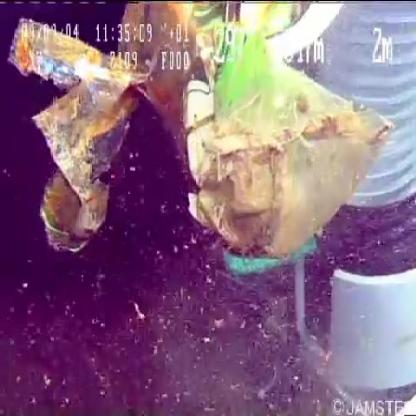Rác: (8, 1, 404, 282)
